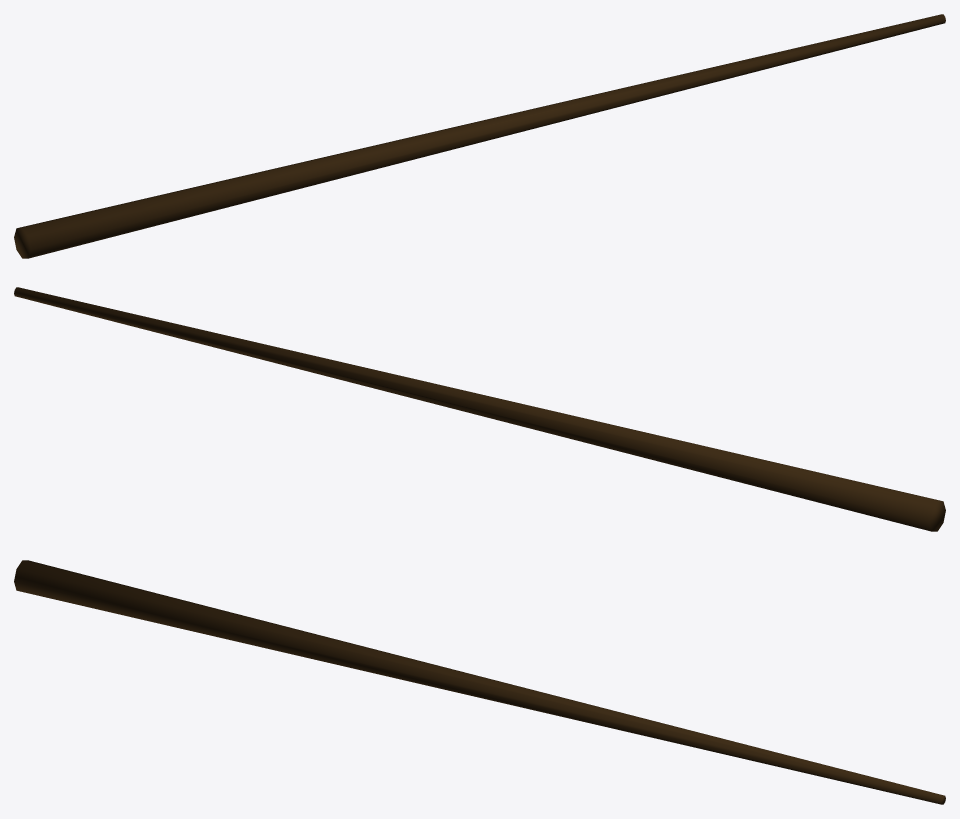
Rendered from pool_cue.glb.
3 views of the same model, one above another, from view 1: azimuth 30°, elevation 25°; view 2: azimuth 150°, elevation 25°; view 3: azimuth 330°, elevation 25° (orthographic).
Visible parts, largest first — view 1: Cylinder; view 2: Cylinder; view 3: Cylinder.
Boxes of the visible parts, x1,y1,x2,y2 form: Cylinder: [14, 14, 945, 258]; Cylinder: [14, 287, 945, 531]; Cylinder: [14, 560, 945, 804].
Size of the model in its own units: 108 by 3.41 by 3.41.
